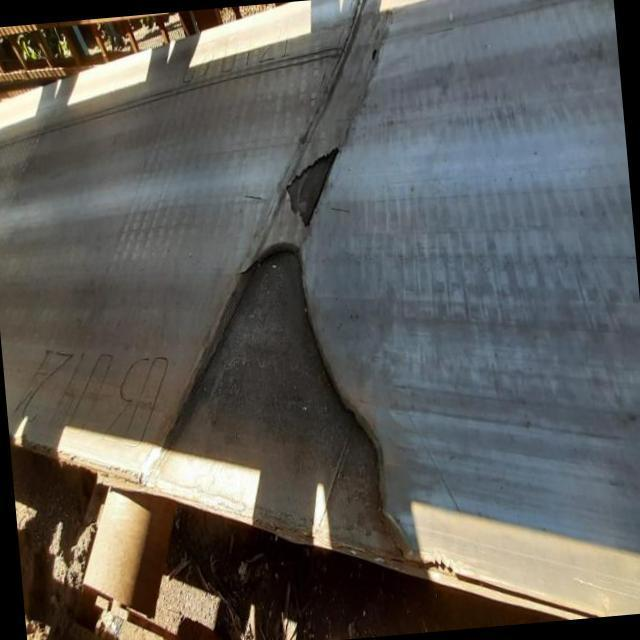Tear: (146, 228, 405, 522), (274, 139, 354, 232)
